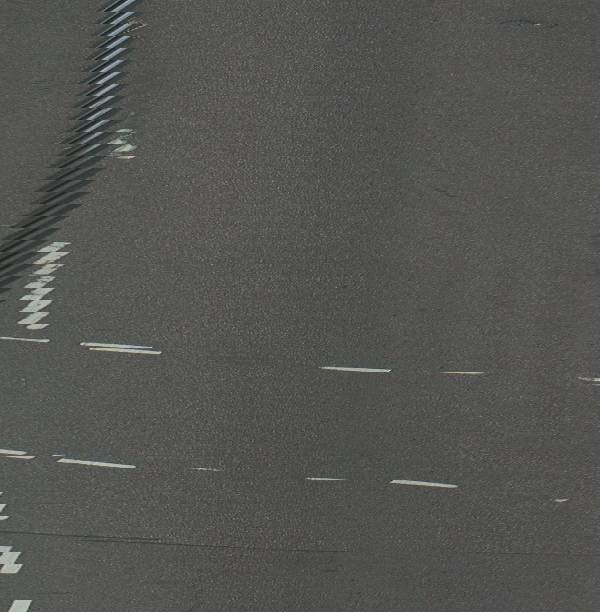road_damage: (47, 529, 355, 561)
